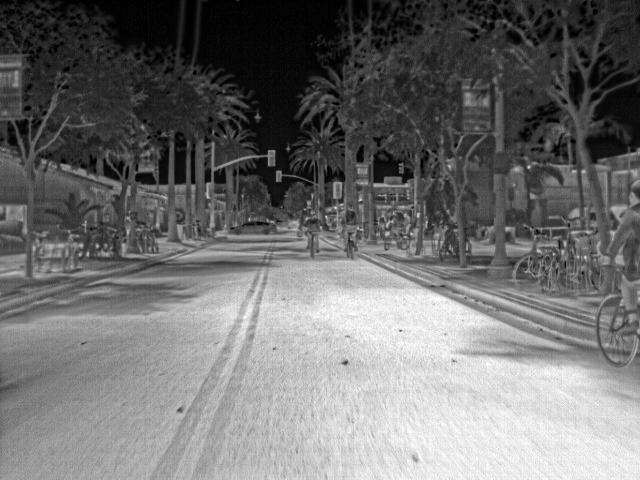car: (228, 220, 276, 236), (565, 205, 597, 229), (287, 218, 299, 230)
person: (601, 178, 639, 288), (301, 208, 321, 252), (342, 204, 358, 254), (387, 209, 403, 234), (400, 209, 413, 235), (413, 210, 425, 235), (122, 208, 131, 241), (374, 211, 388, 231)
